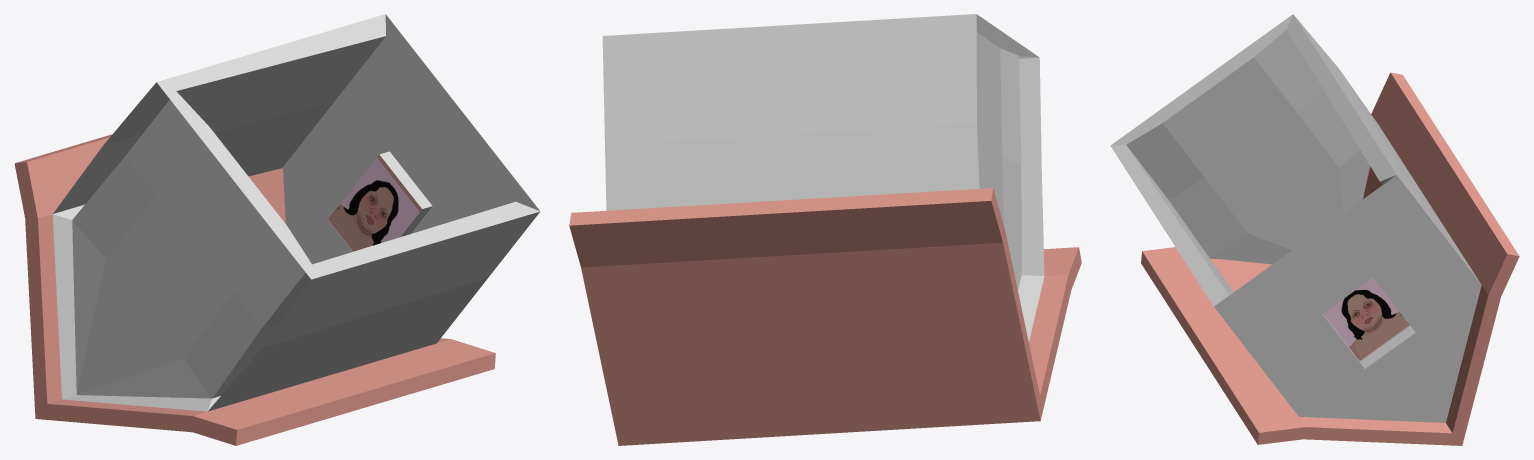
File: talo.fbx
The picture shows the model from 3 angles, left to right: view 1: azimuth 30°, elevation 25°; view 2: azimuth 150°, elevation 25°; view 3: azimuth 270°, elevation 25°; orthographic projection. The views are drawn at different scales.
Visible parts, largest first — view 1: Cube.001; view 2: Cube.001; view 3: Cube.001.
Boxes of the visible parts, x1=… form: Cube.001: x1=14, y1=14, x2=540, y2=445; Cube.001: x1=569, y1=14, x2=1081, y2=445; Cube.001: x1=1110, y1=14, x2=1519, y2=445.
Bounding box in the file's own units: 1846 × 1607 × 1789.
3 materials, 1 textured.
